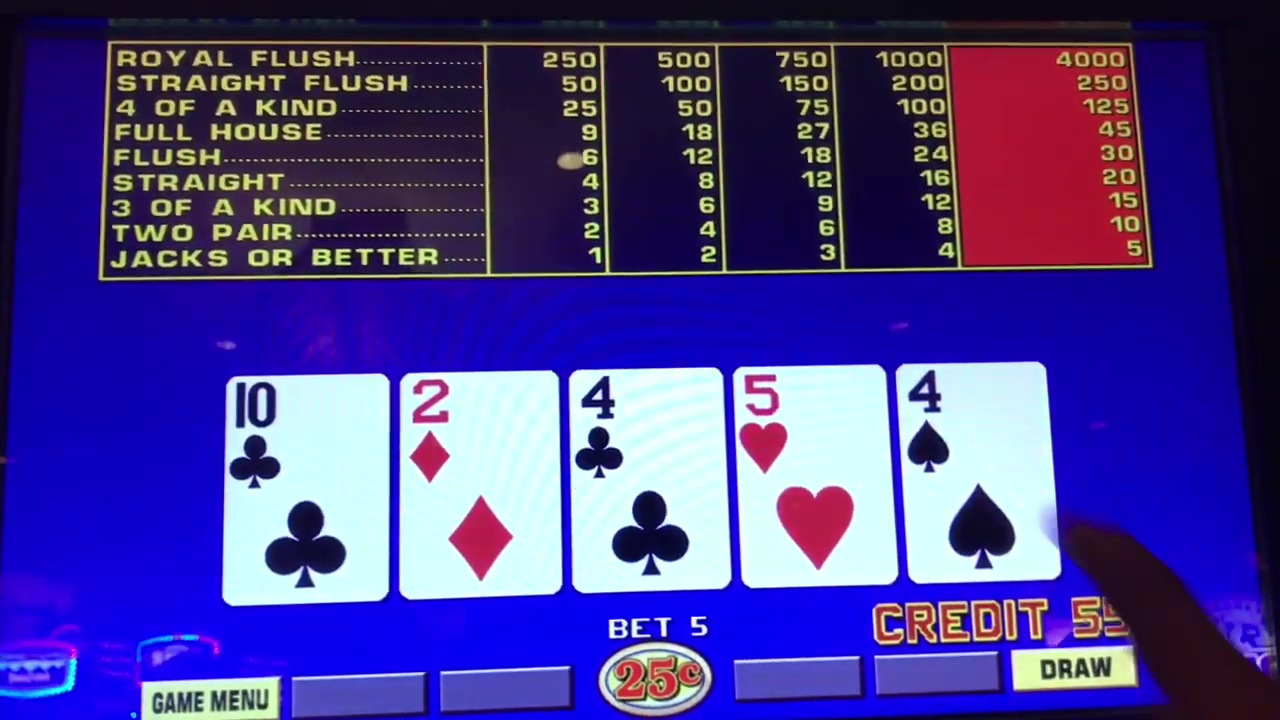C4: (574, 364, 725, 588)
CT: (230, 376, 386, 604)
D2: (401, 375, 557, 594)
H5: (735, 365, 891, 584)
S4: (903, 367, 1046, 581)
